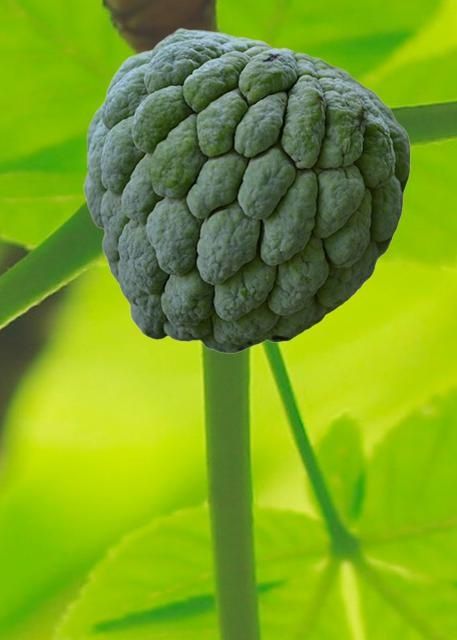atis: (83, 28, 410, 352)
